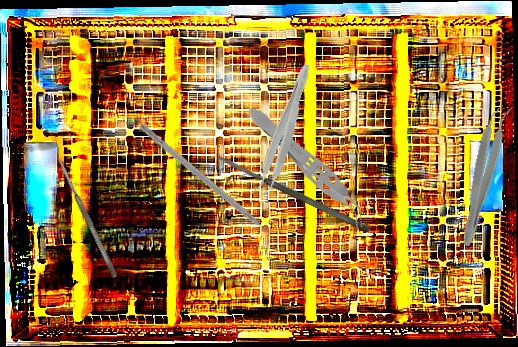Chopper: (132, 123, 281, 251)
Spatula Surgical: (216, 152, 372, 235), (55, 156, 119, 279)
Tissue Forceps: (240, 99, 377, 233), (249, 60, 316, 202), (457, 102, 514, 249)
